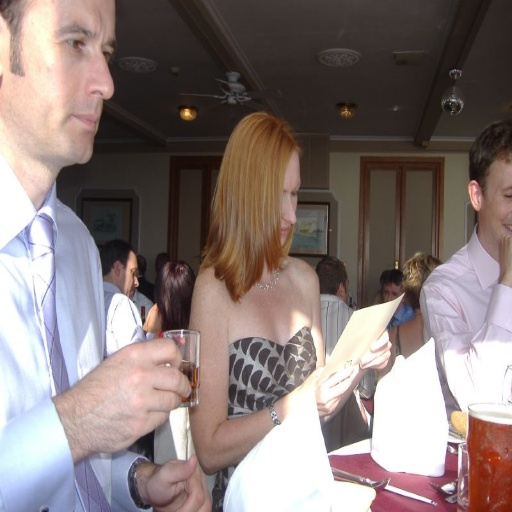hand: (69, 336, 195, 453), (145, 453, 211, 510), (303, 364, 359, 415), (358, 328, 393, 369), (499, 232, 511, 287)
